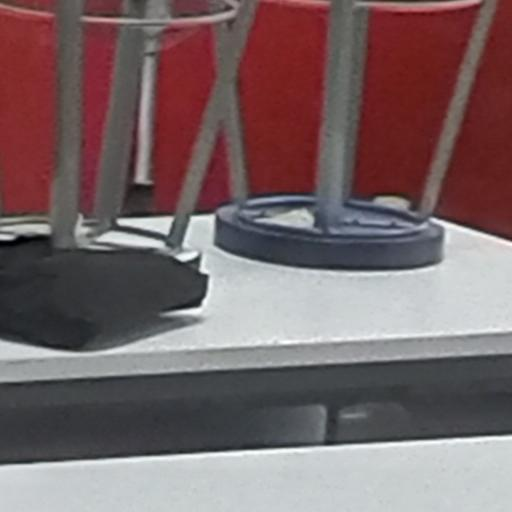Fan: (0, 0, 305, 66)
